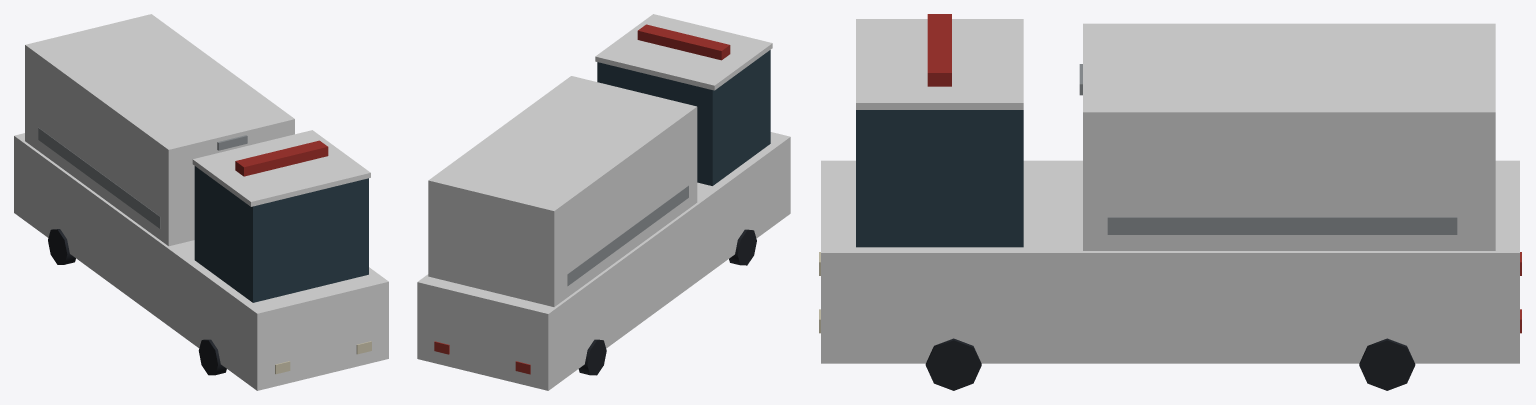
Rendered from veh_fire_1.2867948894be.glb.
3 views of the same model, side by side, from view 1: azimuth 30°, elevation 25°; view 2: azimuth 150°, elevation 25°; view 3: azimuth 270°, elevation 25° (orthographic). The views are drawn at different scales.
Visible parts, largest first — view 1: LOD0; view 2: LOD0; view 3: LOD0.
Part boxes in pixels (box(x1,y1,x2,y2)): LOD0: box(14, 14, 388, 390); LOD0: box(417, 14, 790, 390); LOD0: box(819, 14, 1521, 390).
Size of what is drawn, in the model's own units: 2.6 by 3.78 by 8.04.
